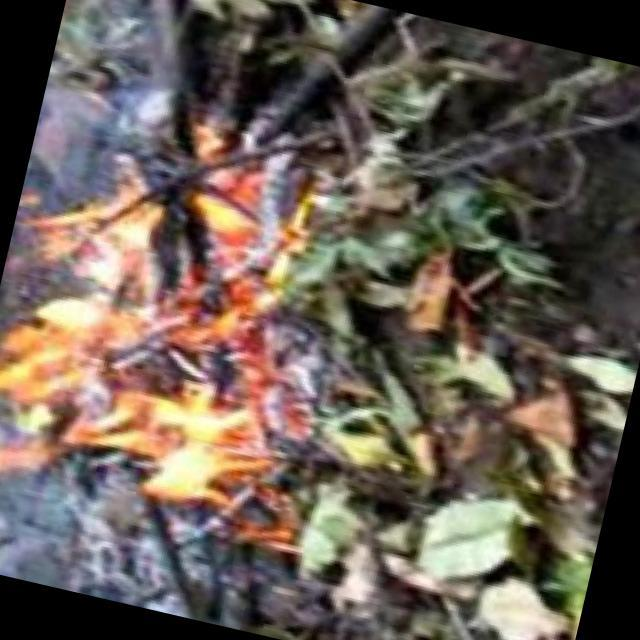Fire: (1, 98, 340, 550)
